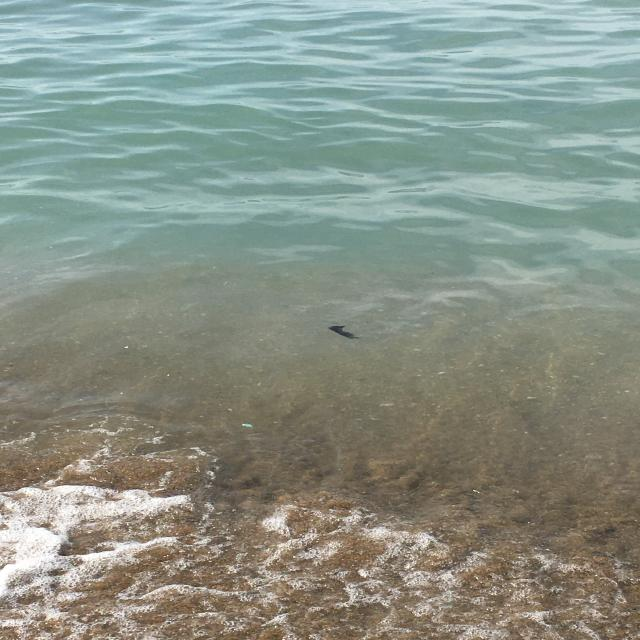Plastic bag: (316, 316, 370, 342)
